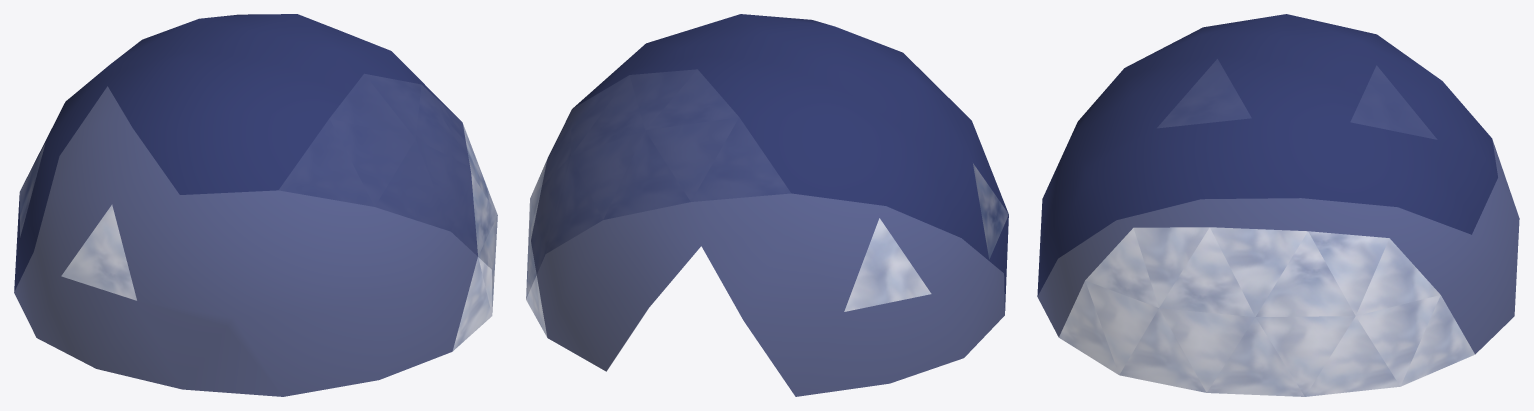
File: domo_cristal.obj
3 renders of one model, left to right at view 1: azimuth 30°, elevation 25°; view 2: azimuth 150°, elevation 25°; view 3: azimuth 270°, elevation 25°, orthographic.
Visible parts, largest first — view 1: domo_cristal; view 2: domo_cristal; view 3: domo_cristal.
Part boxes in pixels (<box>): domo_cristal: <box>14,14,497,396</box>; domo_cristal: <box>526,14,1008,396</box>; domo_cristal: <box>1037,14,1519,396</box>.
Size of the model in its own units: 1.65 by 1 by 1.66.
Materials: 2 (1 with a texture image).
